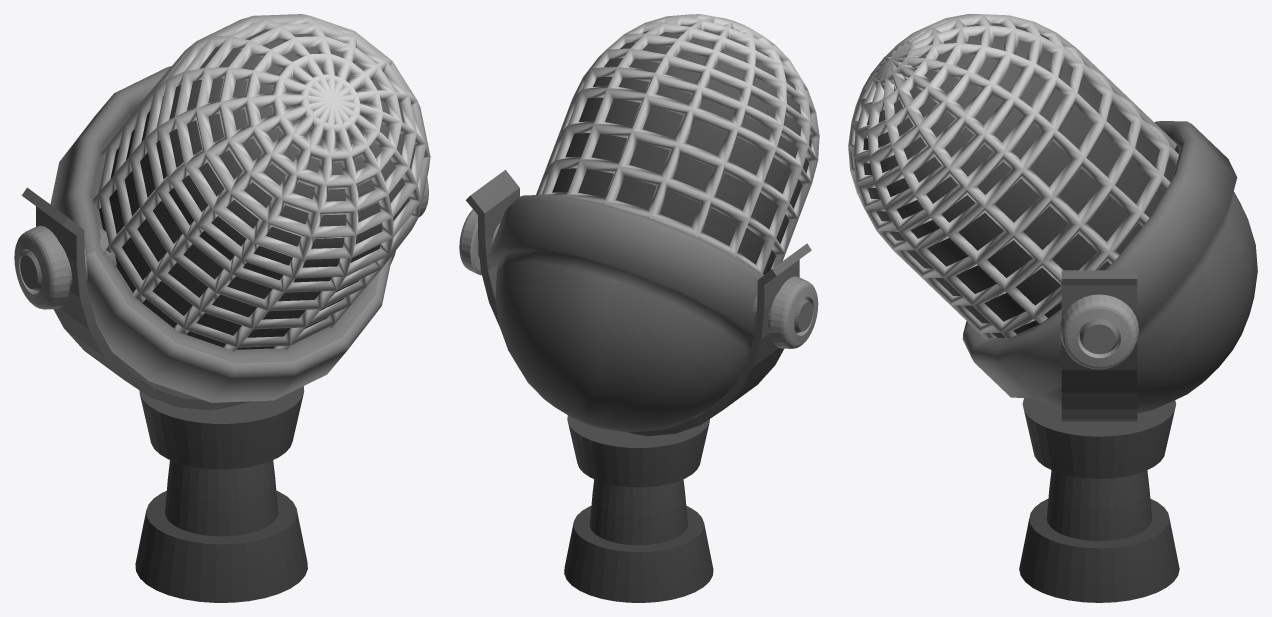
File: mic.fbx
3 views of the same model, side by side, from view 1: azimuth 30°, elevation 25°; view 2: azimuth 150°, elevation 25°; view 3: azimuth 270°, elevation 25° (orthographic). The views are drawn at different scales.
Visible parts, largest first — view 1: Cylinder; view 2: Cylinder; view 3: Cylinder.
Boxes of the visible parts, left/top/right/bottom form: Cylinder: left=14, top=14, right=430, bottom=602; Cylinder: left=459, top=14, right=819, bottom=602; Cylinder: left=848, top=14, right=1257, bottom=602.
Bounding box in the file's own units: 61.07 × 88.62 × 60.52.
